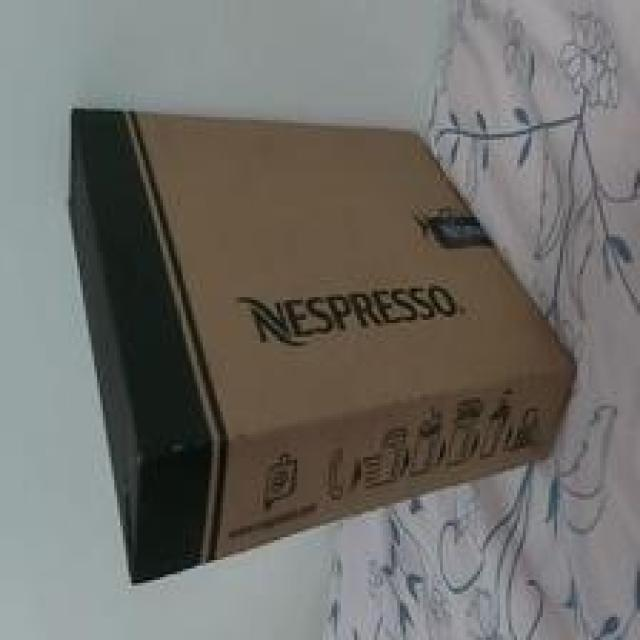PaperCardboard: (62, 92, 586, 575)
